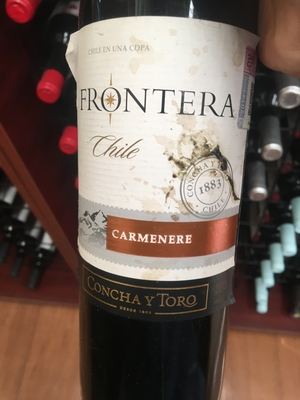frontera carmenere: (69, 10, 250, 397)
